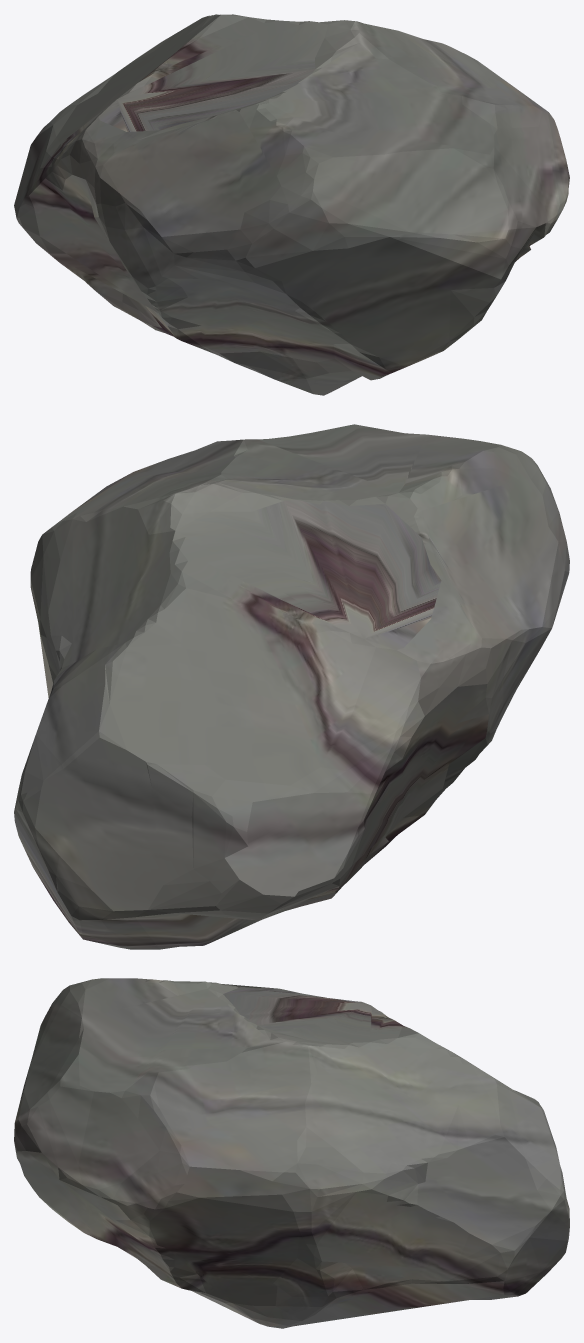
The model's file is stone_02.fbx.
3 views of the same model, one above another, from view 1: azimuth 30°, elevation 25°; view 2: azimuth 150°, elevation 25°; view 3: azimuth 270°, elevation 25° (orthographic). The views are drawn at different scales.
Visible parts, largest first — view 1: rock02; view 2: rock02; view 3: rock02.
Boxes of the visible parts, bbox=[...] form: rock02: bbox=[14, 14, 569, 395]; rock02: bbox=[14, 424, 569, 949]; rock02: bbox=[14, 978, 569, 1328].
Size of the model in its own units: 6.83 by 9.14 by 5.35.
